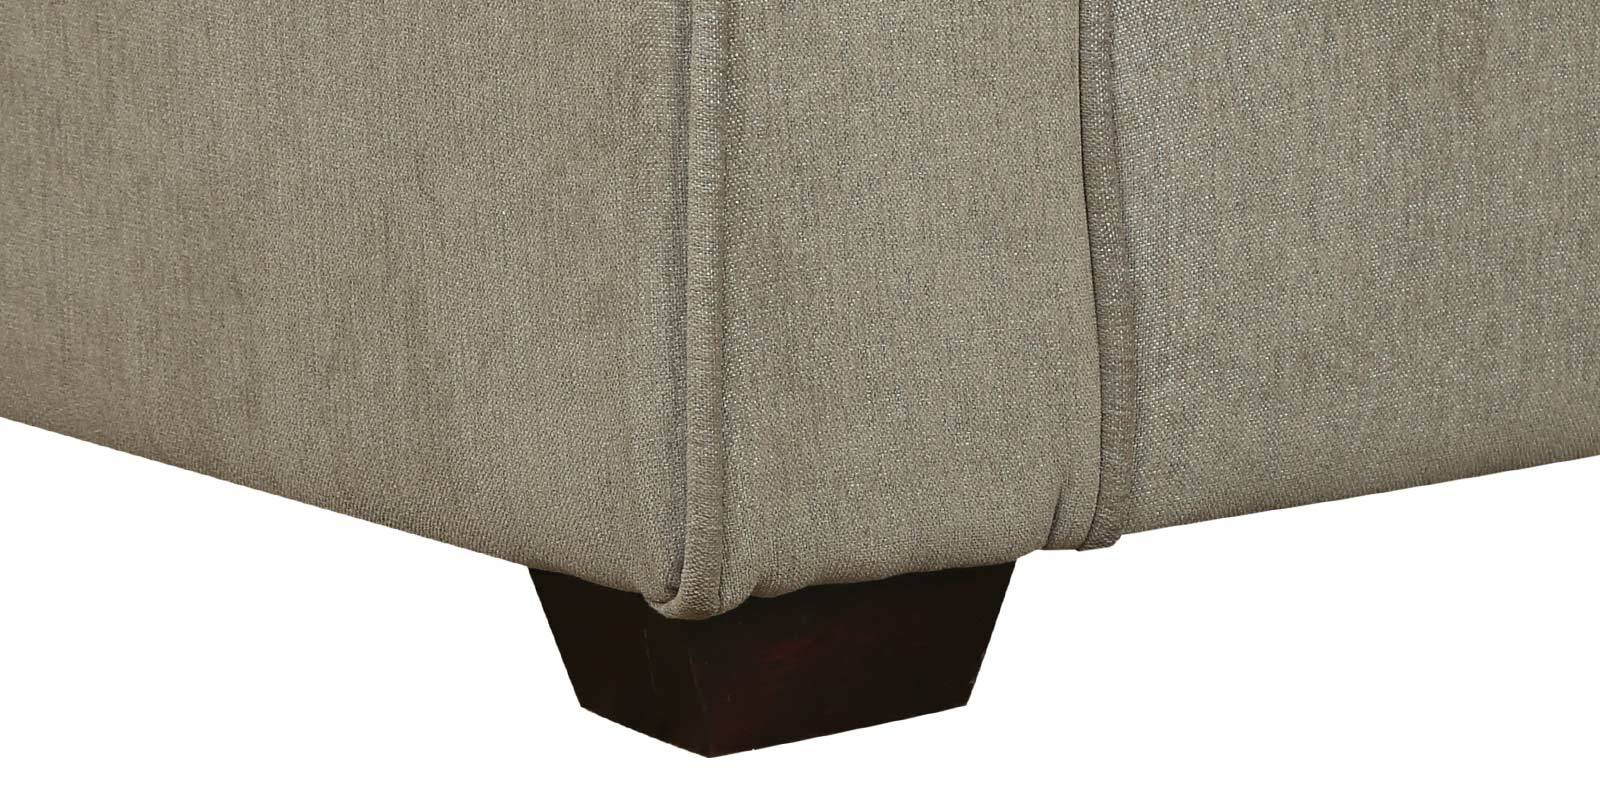Hugo Three Seater Sofa in Sandy Brown Colour by CasaCraft: (3, 1, 1599, 756)
